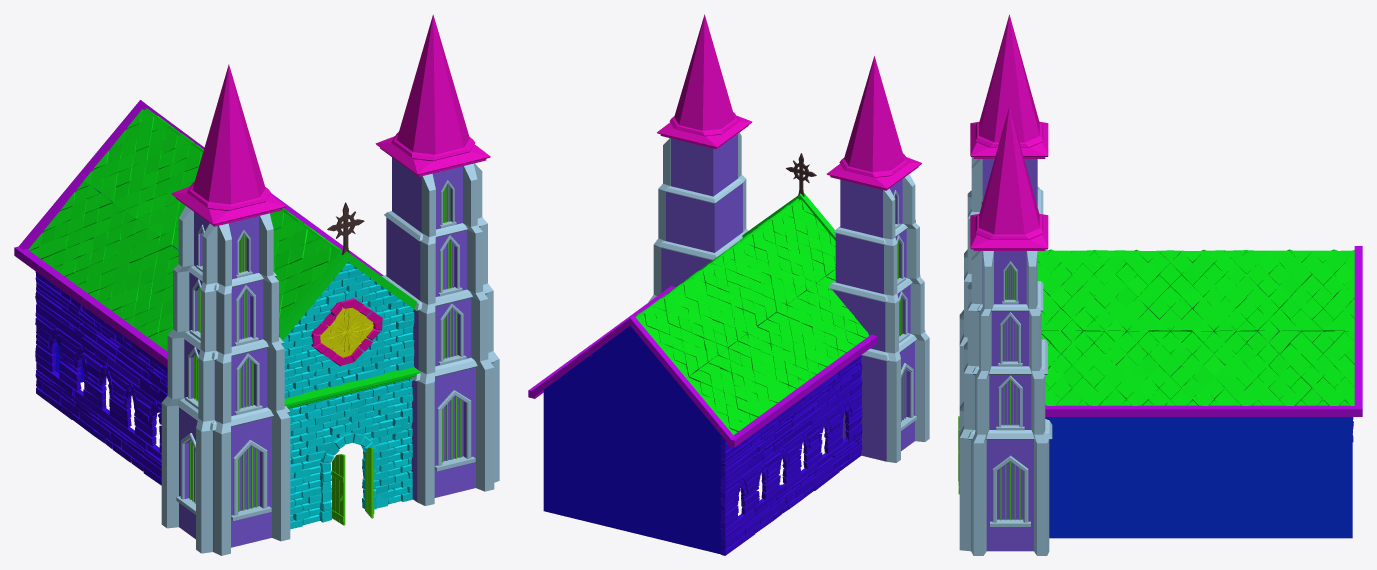
File: church.fbx
The picture shows the model from 3 angles, left to right: view 1: azimuth 30°, elevation 25°; view 2: azimuth 150°, elevation 25°; view 3: azimuth 270°, elevation 25°; orthographic projection. The views are drawn at different scales.
Visible parts, largest first — view 1: catle_wing.002, catle_wing.001, catle_wall_front, catle_roof, catle_wall_side, catle_pedestal, catle_door, Cube.001; view 2: catle_wall_back, catle_roof, catle_wing.002, catle_wing.001, catle_wall_side, catle_pedestal, catle_wall_front; view 3: catle_roof, catle_wall_right, catle_wing.001, catle_wing.002, catle_pedestal.
Boxes of the visible parts, <box> form: catle_wing.002: <box>161,64,290,555</box>; catle_wing.001: <box>375,14,499,505</box>; catle_wall_front: <box>279,250,420,529</box>; catle_roof: <box>28,108,341,351</box>; catle_wall_side: <box>35,271,167,485</box>; catle_pedestal: <box>14,100,383,367</box>; catle_door: <box>331,447,374,525</box>; Cube.001: <box>327,202,364,254</box>; catle_wall_back: <box>543,326,725,554</box>; catle_roof: <box>635,198,868,434</box>; catle_wing.002: <box>825,56,929,462</box>; catle_wing.001: <box>648,14,752,373</box>; catle_wall_side: <box>720,355,862,555</box>; catle_pedestal: <box>528,286,877,447</box>; catle_wall_front: <box>742,193,835,326</box>; catle_roof: <box>1037,249,1354,405</box>; catle_wall_right: <box>1045,401,1352,538</box>; catle_wing.001: <box>959,106,1052,555</box>; catle_wing.002: <box>959,14,1051,406</box>; catle_pedestal: <box>1045,246,1362,416</box>.
Size of the model in its own units: 3254 by 4852 by 4141.
